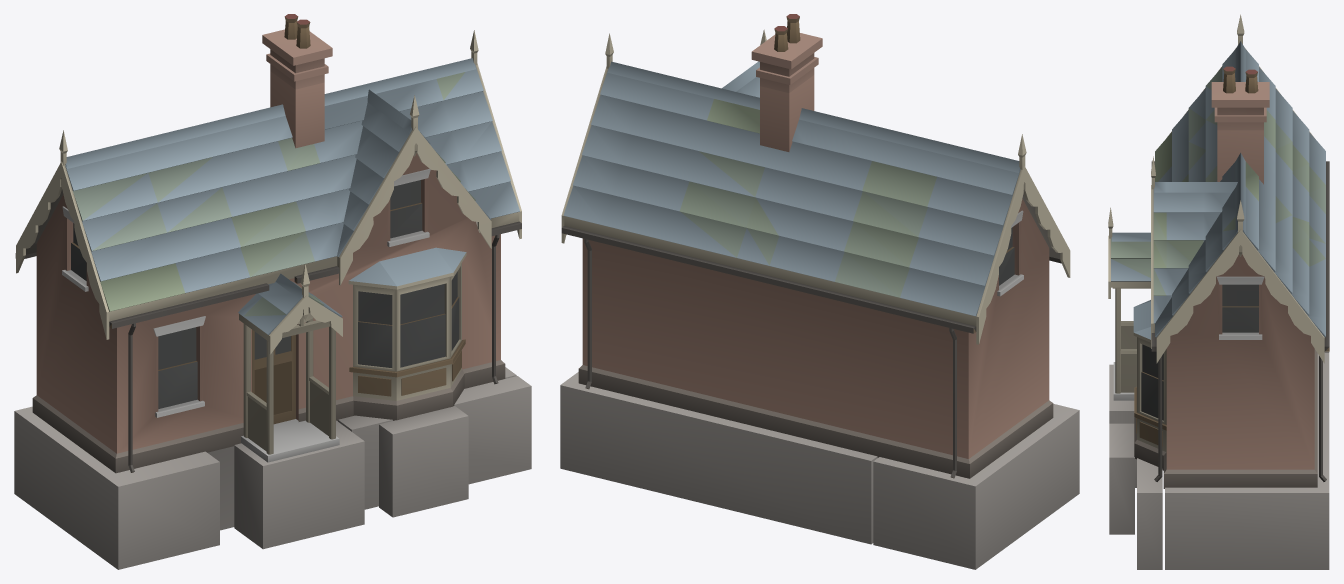
Rendered from cottage.glb.
3 views of the same model, side by side, from view 1: azimuth 30°, elevation 25°; view 2: azimuth 150°, elevation 25°; view 3: azimuth 270°, elevation 25° (orthographic). The views are drawn at different scales.
Visible parts, largest first — view 1: cottage.001; view 2: cottage.001; view 3: cottage.001.
Part boxes in pixels (x1,y1,x2,y2): cottage.001: [14, 14, 531, 569]; cottage.001: [560, 14, 1079, 569]; cottage.001: [1108, 14, 1329, 569].
Bounding box in the file's own units: 8 × 8.36 × 3.99.
